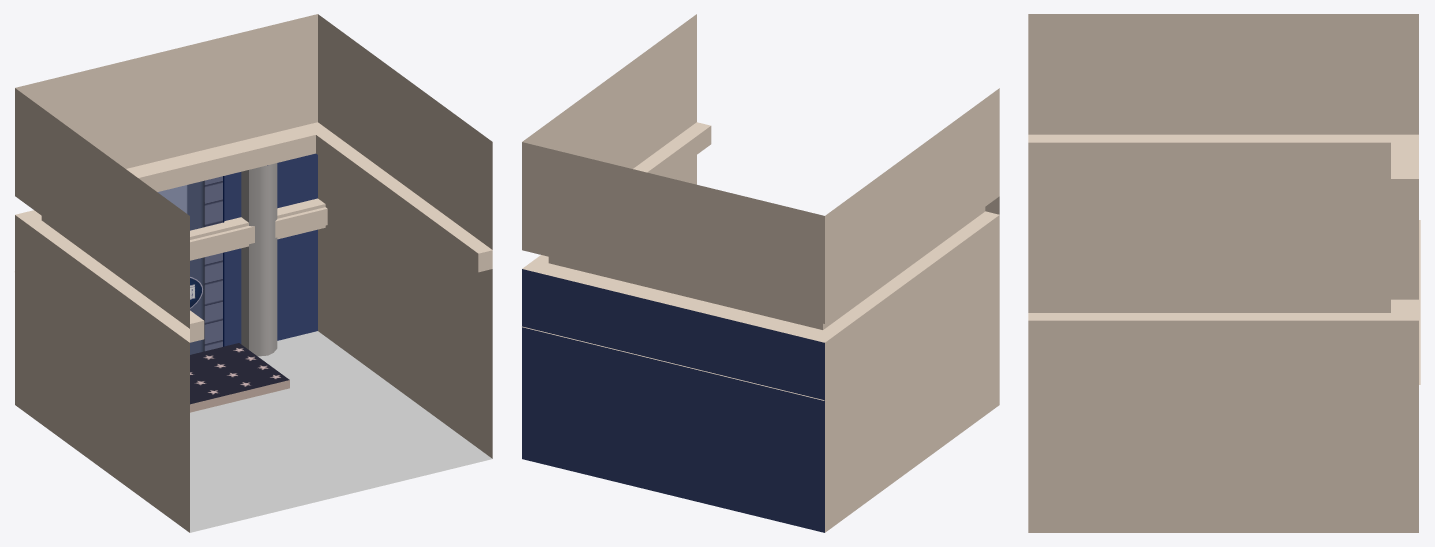
3 views of the same model, side by side, from view 1: azimuth 30°, elevation 25°; view 2: azimuth 150°, elevation 25°; view 3: azimuth 270°, elevation 25° (orthographic). The views are drawn at different scales.
Visible parts, largest first — view 1: kaijo, wall, stage; view 2: kaijo; view 3: kaijo.
Part boxes in pixels (x1,y1,x2,y2): kaijo: (14,14,492,532); wall: (157,176,224,354); stage: (190,343,289,412); kaijo: (521,14,999,532); kaijo: (1028,14,1420,532).
Size of the model in its own units: 9.1 by 9.1 by 9.14.
Materials: 4 (4 with a texture image).
